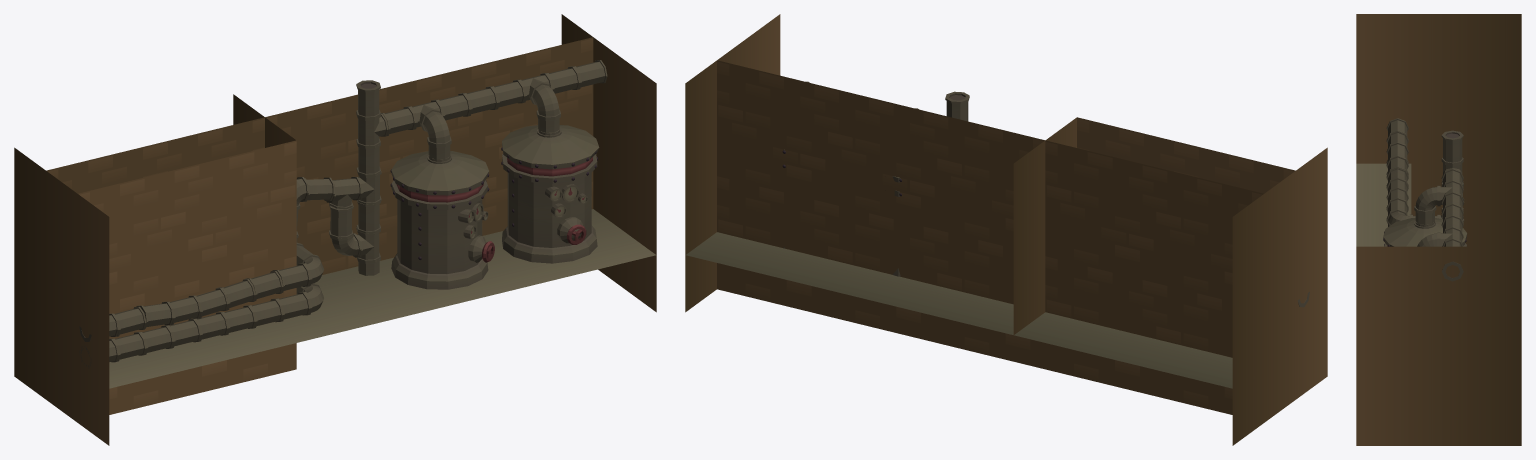
File: Room25_8x20.fbx
The picture shows the model from 3 angles, left to right: view 1: azimuth 30°, elevation 25°; view 2: azimuth 150°, elevation 25°; view 3: azimuth 270°, elevation 25°; orthographic projection. The views are drawn at different scales.
Visible parts, largest first — view 1: Room25_8x20; view 2: Room25_8x20; view 3: Room25_8x20.
Boxes of the visible parts, x1,y1,x2,y2 form: Room25_8x20: (14, 14, 656, 445); Room25_8x20: (685, 14, 1327, 445); Room25_8x20: (1356, 14, 1521, 445).
Bounding box in the file's own units: 2003 × 600 × 850.
